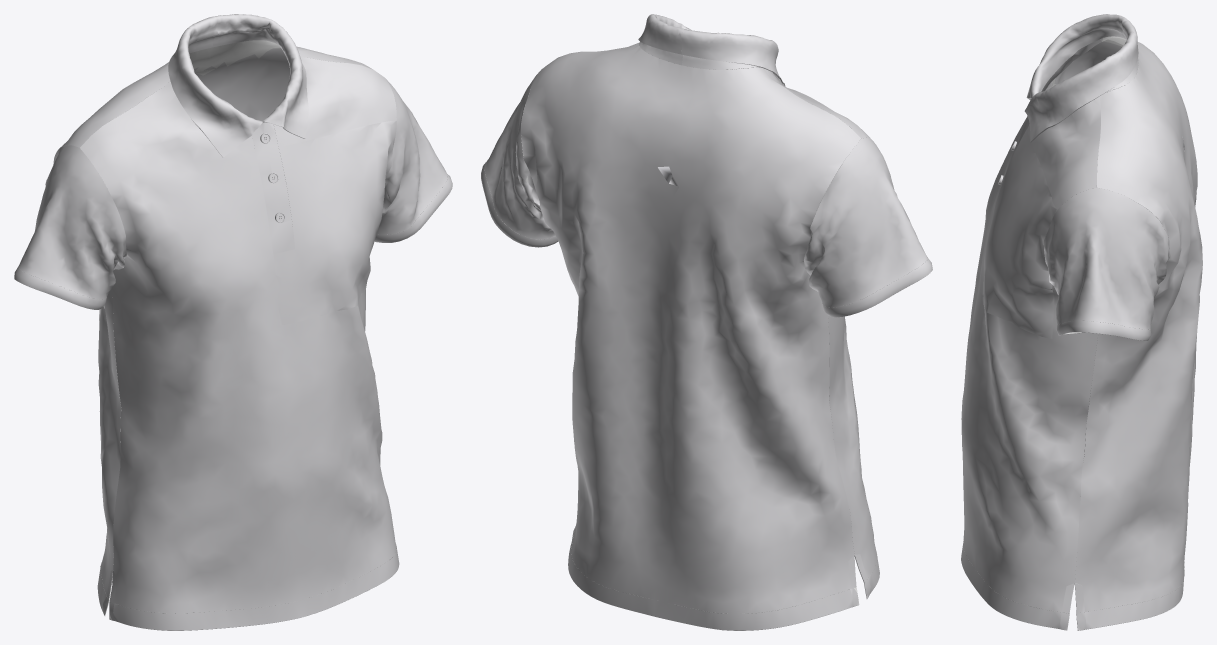
File: pols.glb
3 views of the same model, side by side, from view 1: azimuth 30°, elevation 25°; view 2: azimuth 150°, elevation 25°; view 3: azimuth 270°, elevation 25° (orthographic). The views are drawn at different scales.
Parts seen in each view (by area): view 1: Cloth; view 2: Cloth; view 3: Cloth.
Part boxes in pixels (x1=…): Cloth: x1=14, y1=14, x2=452, y2=630; Cloth: x1=481, y1=14, x2=932, y2=630; Cloth: x1=961, y1=14, x2=1202, y2=630.
Size of the model in its own units: 0.5967 by 0.7259 by 0.2938.
Materials: 11 (9 with a texture image).
